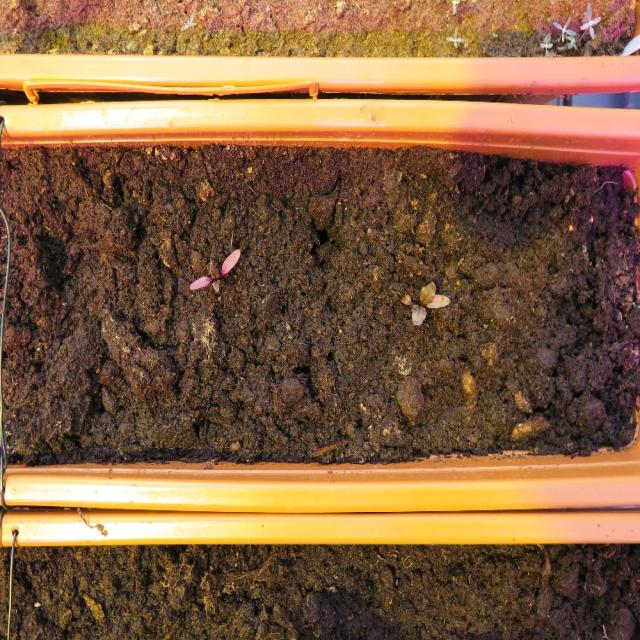weed: (579, 1, 601, 39), (444, 25, 464, 48), (178, 8, 196, 32)
